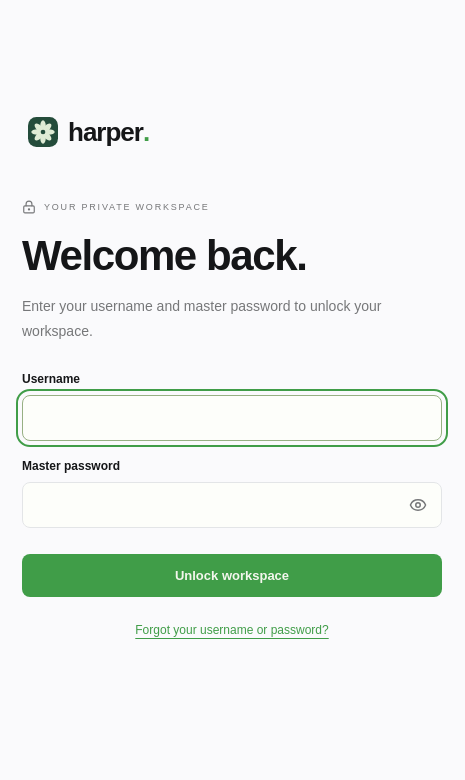
Owner account screens › resets forgotten credentials using recovery and presents the replacement key
This screenshot has width=465, height=780.
Click the button with class "auth-link".
click(232, 630)  # box [129,617,335,643]
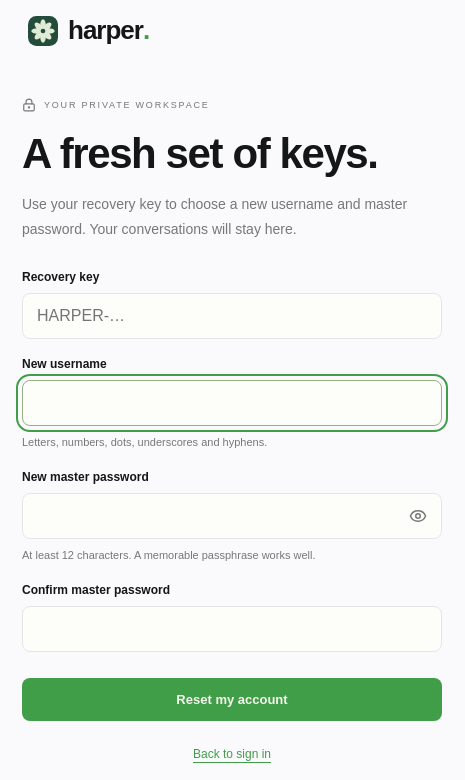
Type "old-recovery-key" into the field with id "recovery".
click(232, 316); type("old-recovery-key")  # box [22,293,442,339]
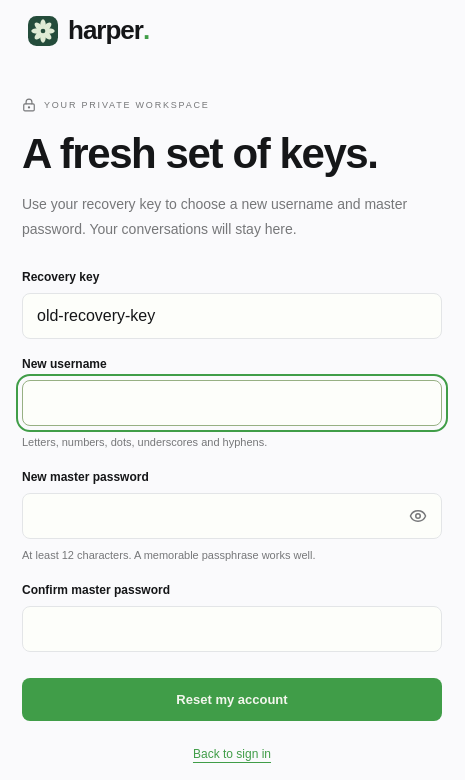
Type "owner" into the field with id "username".
click(232, 403); type("owner")  # box [22,380,442,426]
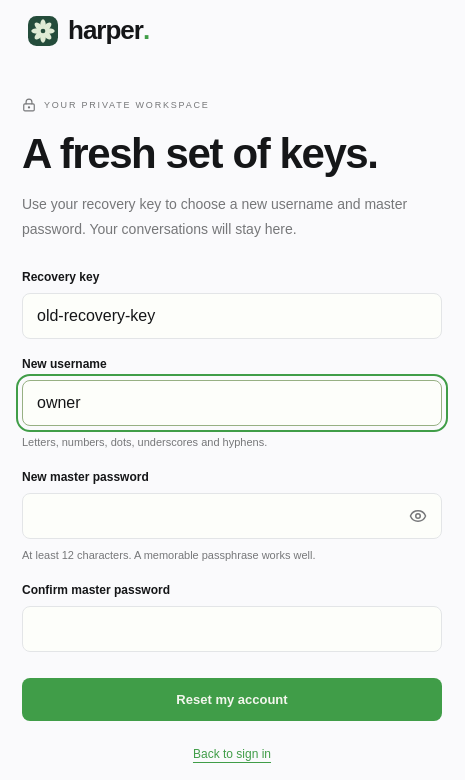
Type "correct horse battery" into the password field labelled "New master password".
click(232, 516); type("correct horse battery")  # box [22,493,442,539]
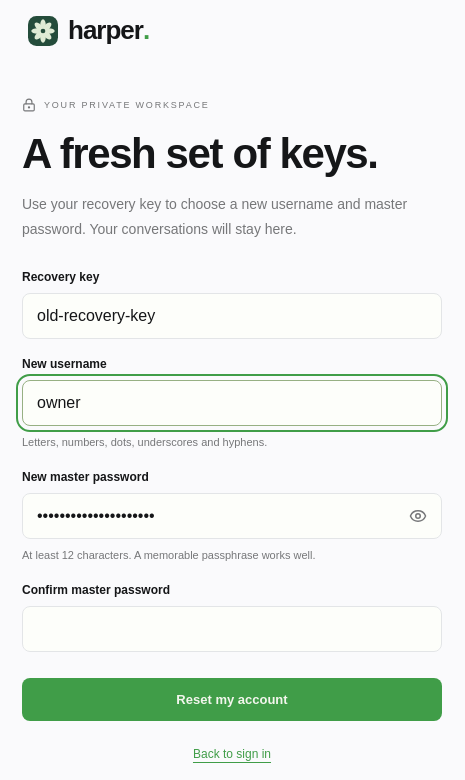
Type "correct horse battery" into the password field with id "confirm-password".
click(232, 629); type("correct horse battery")  # box [22,606,442,652]
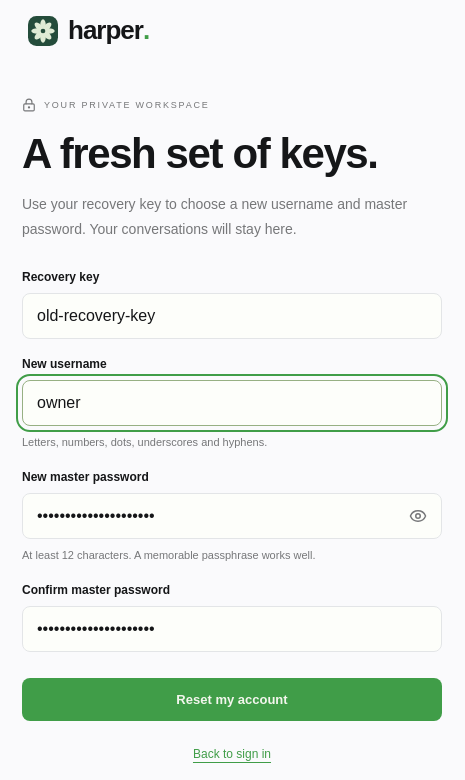
Submit the form with class "auth-form", box [22,270,442,721]
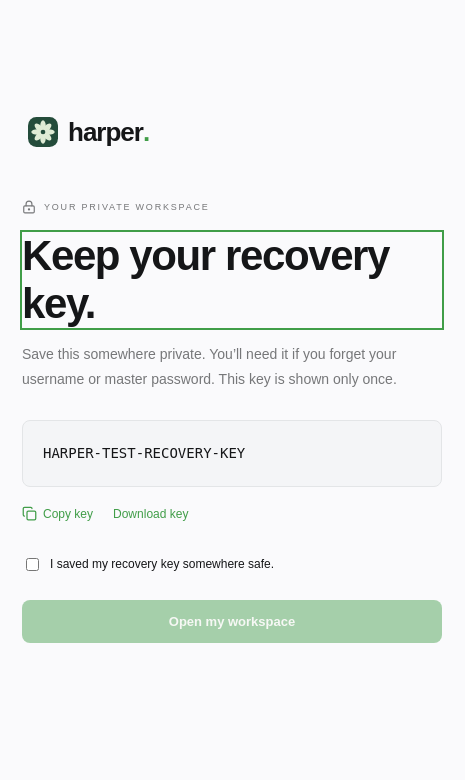
expect the text with class "recovery-key" reads "HARPER-TEST-RECOVERY-KEY": met, box [43,445,245,461]
